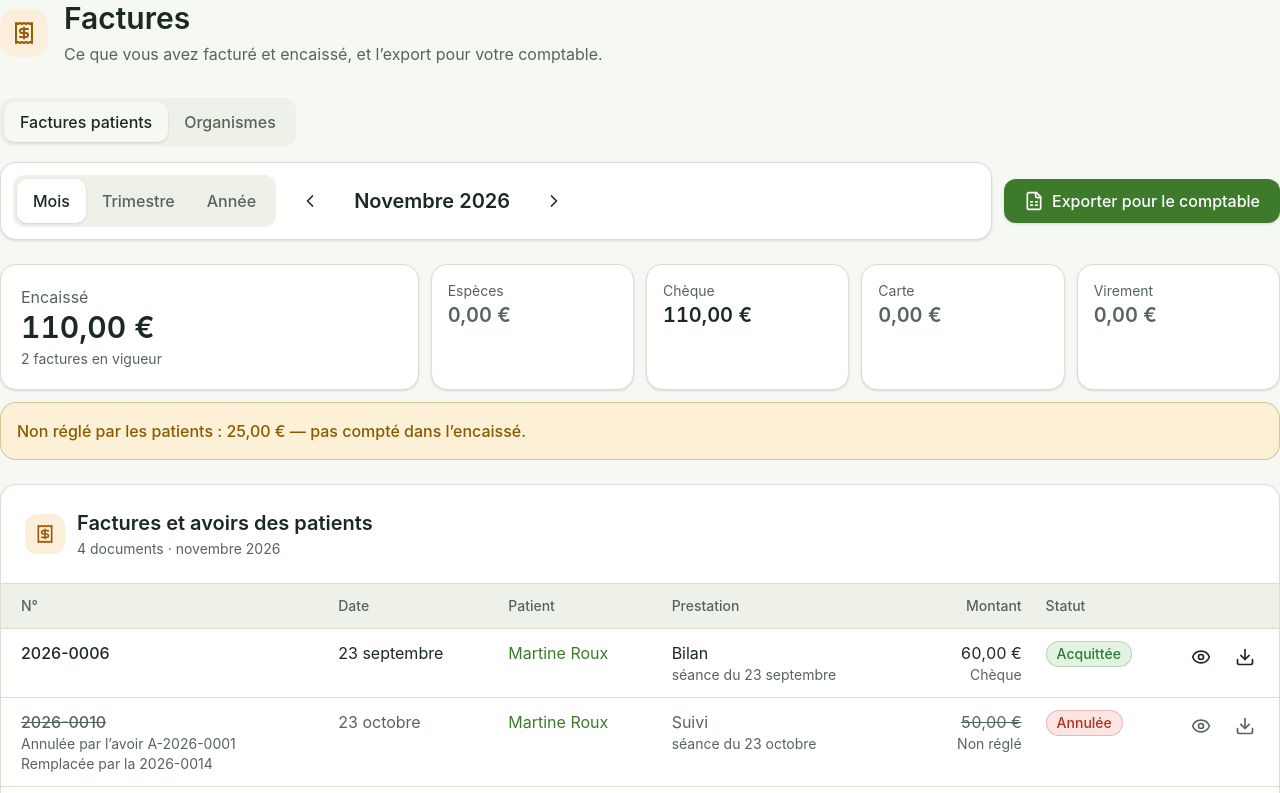
it: InvoicesPage › shows the period’s totals, by payment method and by month, then every document
expect the text "Encaissé" is shown: met, box x1=21 y1=286 x2=88 y2=306
Step 1. Click the button "Trimestre" → (138, 200), box x1=86 y1=178 x2=191 y2=222
(page scrolled)
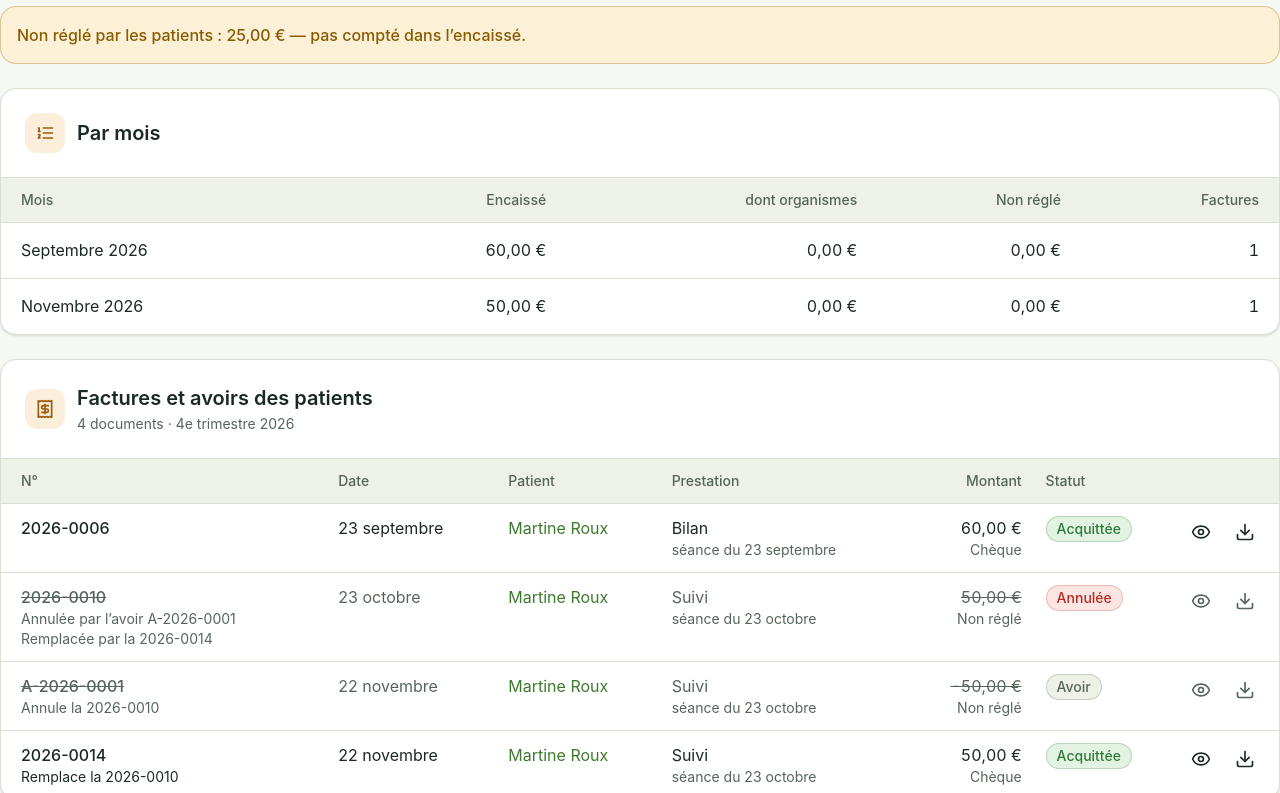
expect the text "Non réglé par les patients : 25,00 €" reads "Non réglé par les patients : 25,00 € — pas compté dans l’encaissé.": met, box x1=17 y1=24 x2=526 y2=44
expect the heading "Par mois" is shown: met, box x1=77 y1=118 x2=161 y2=146
expect the text "septembre 2026" is shown: met, box x1=1 y1=222 x2=364 y2=278
